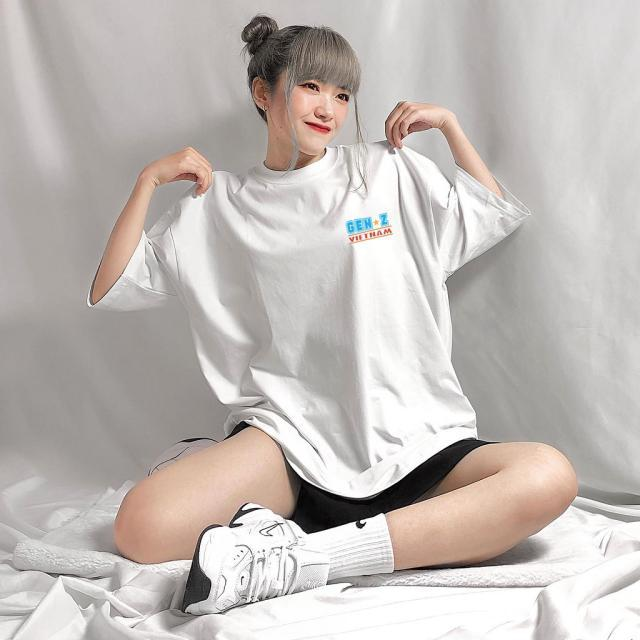Shirt: (86, 134, 532, 506)
